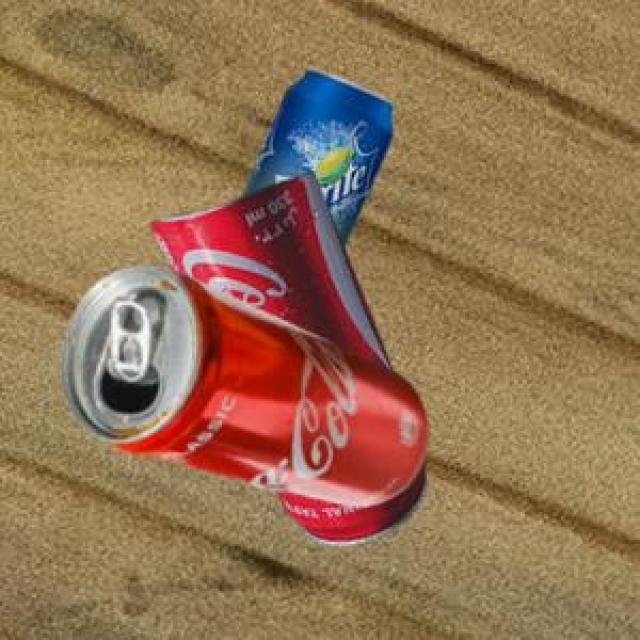logam: (148, 170, 423, 543), (59, 263, 423, 502), (240, 65, 389, 244)
